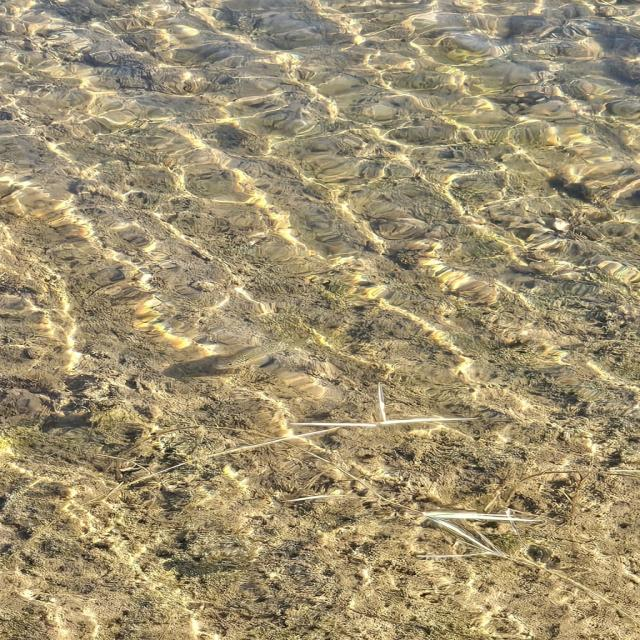Gunes Levregi: (211, 329, 301, 377)
